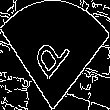P_SW: (32, 24, 78, 86)
